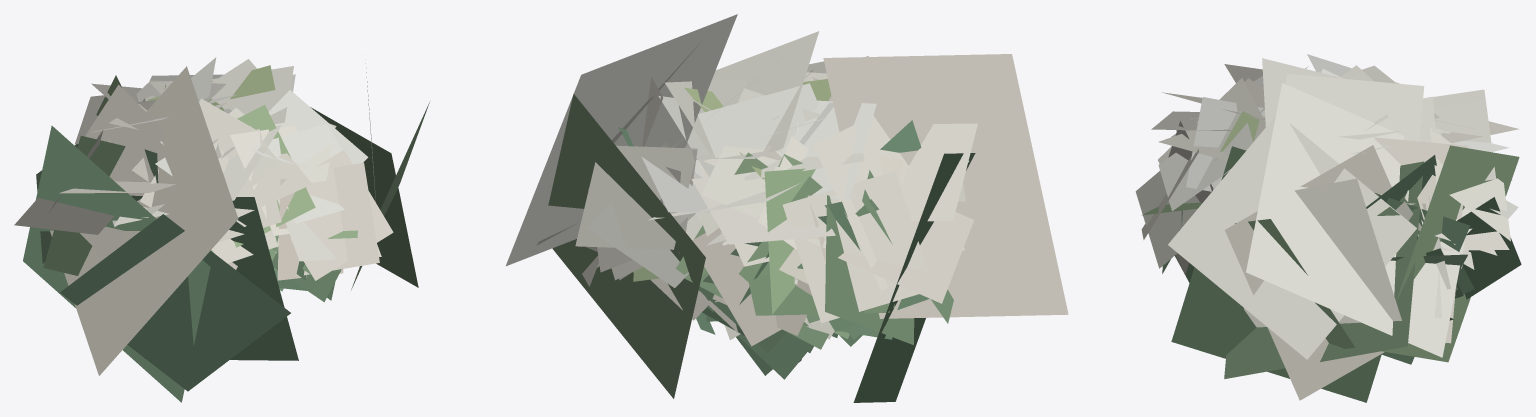
Rendered from elder_v4.glb.
3 views of the same model, side by side, from view 1: azimuth 30°, elevation 25°; view 2: azimuth 150°, elevation 25°; view 3: azimuth 270°, elevation 25° (orthographic). The views are drawn at different scales.
Visible parts, largest first — view 1: far, near; view 2: near, far; view 3: far, near.
Boxes of the visible parts, bbox=[...] form: far: bbox=[23, 63, 429, 402]; near: bbox=[14, 57, 393, 302]; near: bbox=[575, 56, 977, 379]; far: bbox=[506, 14, 1068, 402]; far: bbox=[1168, 58, 1521, 402]; near: bbox=[1135, 54, 1519, 320].
Bounding box in the file's own units: 8.56 × 6.37 × 7.36.
